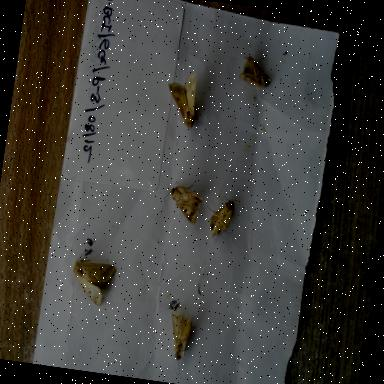abw: (62, 236, 122, 318), (156, 172, 210, 236), (158, 66, 207, 134), (156, 306, 201, 380), (199, 188, 242, 242), (233, 50, 277, 96)
